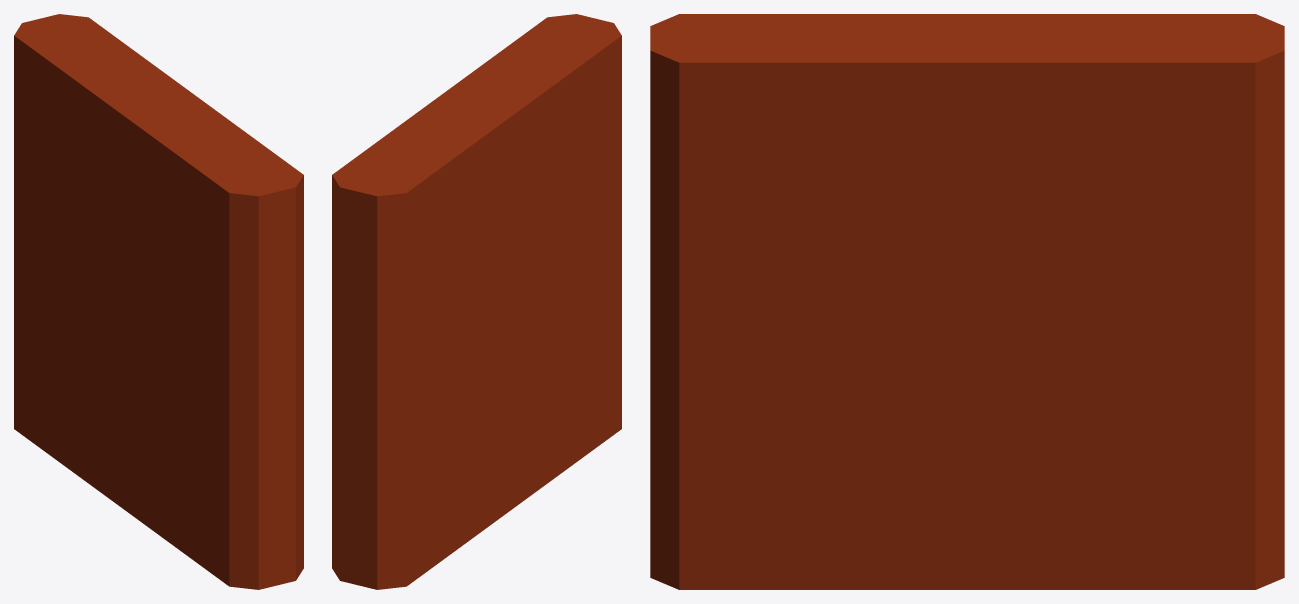
The model's file is Wall_32_1.fbx.
The picture shows the model from 3 angles, left to right: view 1: azimuth 30°, elevation 25°; view 2: azimuth 150°, elevation 25°; view 3: azimuth 270°, elevation 25°; orthographic projection. The views are drawn at different scales.
Visible parts, largest first — view 1: Wall/32_1; view 2: Wall/32_1; view 3: Wall/32_1.
Boxes of the visible parts, left/top/right/bottom form: Wall/32_1: left=14, top=14, right=303, bottom=589; Wall/32_1: left=332, top=14, right=621, bottom=589; Wall/32_1: left=650, top=14, right=1284, bottom=589.
Size of the model in its own units: 0.2 by 1.1 by 1.01.
